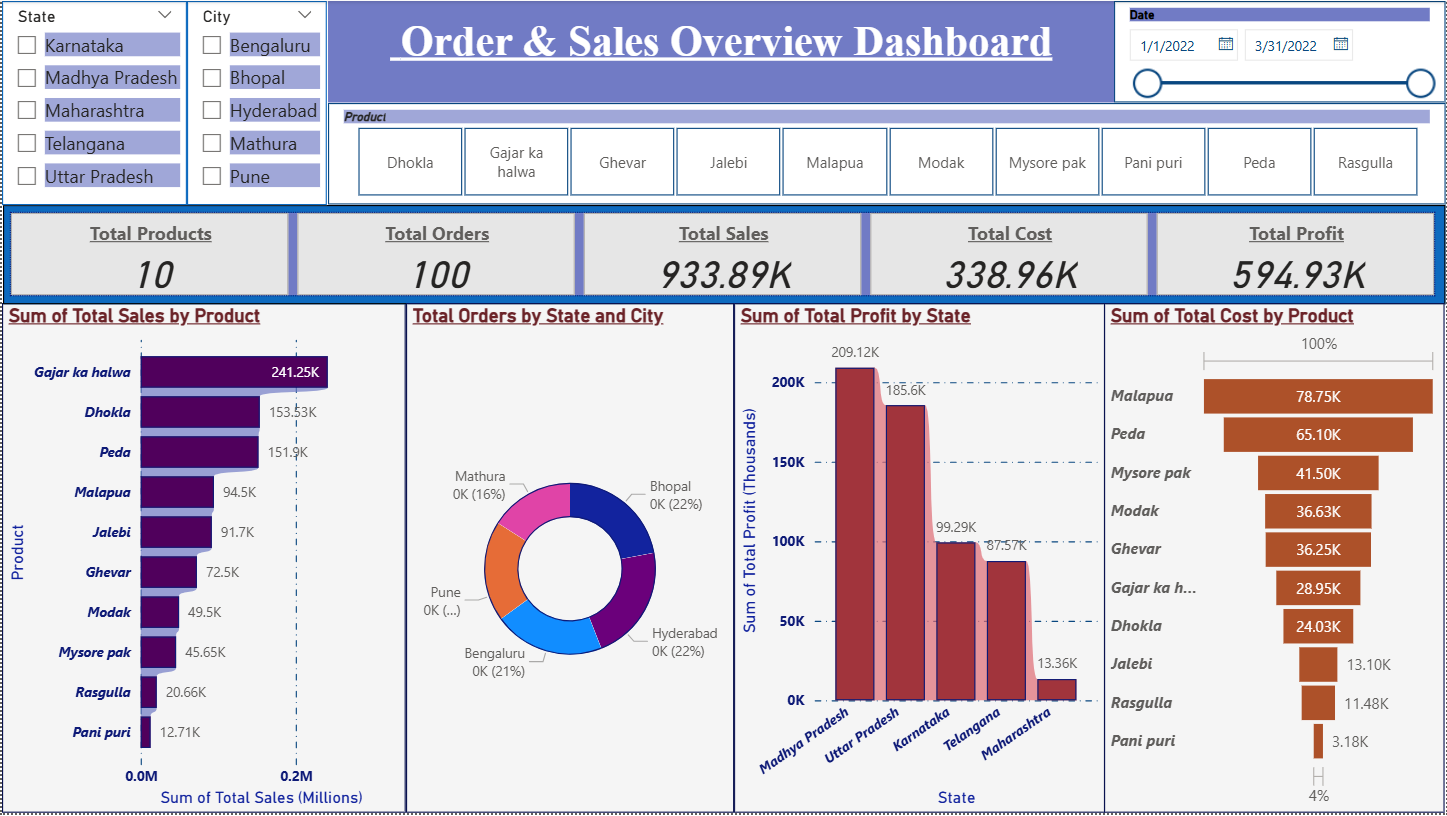

What the dashboard file says about the page in this screenshot:
{"tool":"powerbi","page":{"name":"Page 1","canvas":[1280,720],"ordinal":0},"visuals":[{"type":"barChart","fields":{"Category":["Orders.Product"],"Y":["Sum(Orders.Total Sales)"]},"box":[0,267.5,357.9,452.3],"z":0},{"type":"cardVisual","fields":{"Data":["Customers.Total Products","Customers.Total Orders","Sum(Orders.Total Sales)","Sum(Orders.Total Cost)","Sum(Orders.Total Profit)"]},"box":[1,180.9,1279,87.5],"z":2000},{"type":"slicer","fields":{"Values":["Customers.City"]},"box":[164.4,0,124.5,180.9],"z":2002},{"type":"slicer","fields":{"Values":["Orders.Product"]},"box":[288.9,90.5,991.1,90.5],"z":2003},{"type":"slicer","fields":{"Values":["Customers.Order Date"]},"box":[986.3,0,293.7,90.5],"z":2004},{"type":"slicer","fields":{"Values":["Customers.State"]},"box":[0,0,164.4,180.9],"z":2005},{"type":"textbox","box":[288.9,0,697.4,90.5],"z":2006},{"type":"columnChart","fields":{"Category":["Customers.State"],"Y":["Sum(Orders.Total Profit)"]},"box":[648.8,267.5,328.8,452.3],"z":2007},{"type":"donutChart","fields":{"Category":["Customers.State"],"Y":["Customers.Total Orders"],"Series":["Customers.City"]},"box":[357.9,267.5,290.8,452.3],"z":2008},{"type":"funnel","fields":{"Category":["Orders.Product"],"Y":["Sum(Orders.Total Cost)"]},"box":[977.5,267.5,302.5,452.3],"z":2009}]}

Visuals, with their boxes in screenshot pixels (x1, y1, x2, y2), scaled from the page's 1280x720 canvas onto the 1447x816 screenshot:
barChart - Orders.Product x Sum(Orders.Total Sales): detection(0, 303, 405, 815)
cardVisual - Customers.Total Products x Customers.Total Orders: detection(1, 205, 1446, 304)
slicer - Customers.City: detection(186, 0, 327, 205)
slicer - Orders.Product: detection(327, 103, 1446, 205)
slicer - Customers.Order Date: detection(1115, 0, 1446, 103)
slicer - Customers.State: detection(0, 0, 186, 205)
textbox: detection(327, 0, 1115, 103)
columnChart - Customers.State x Sum(Orders.Total Profit): detection(733, 303, 1105, 815)
donutChart - Customers.State x Customers.Total Orders: detection(405, 303, 733, 815)
funnel - Orders.Product x Sum(Orders.Total Cost): detection(1105, 303, 1446, 815)
